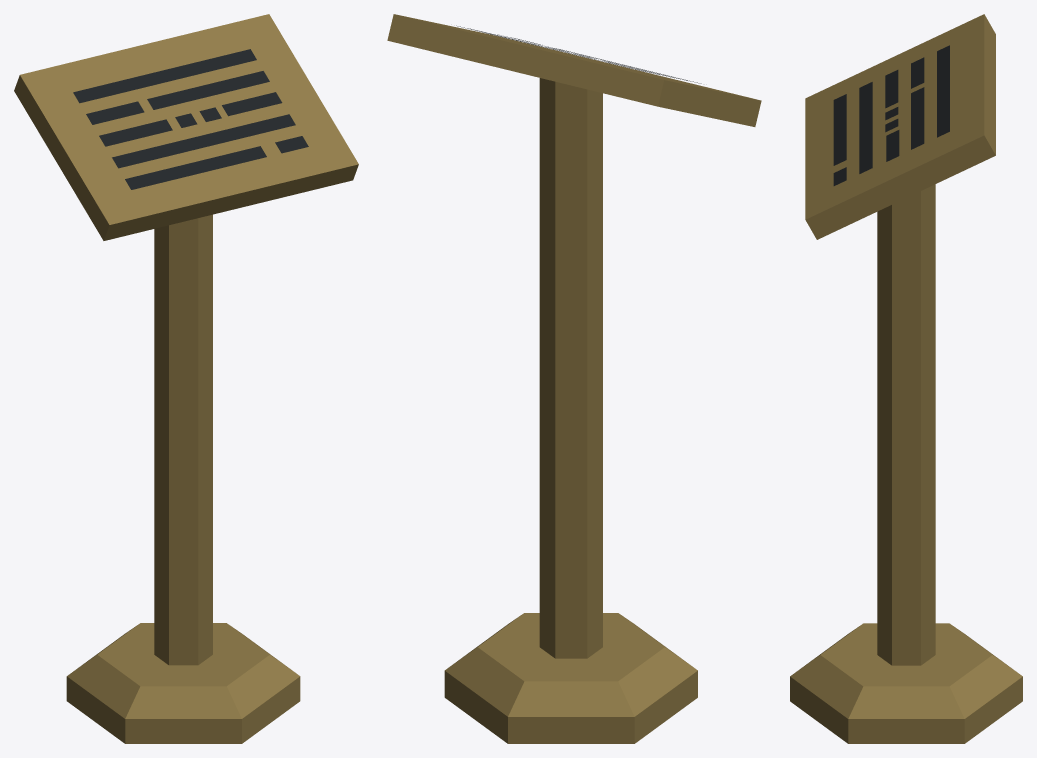
File: InfoStand_Fixed.fbx
The picture shows the model from 3 angles, left to right: view 1: azimuth 30°, elevation 25°; view 2: azimuth 150°, elevation 25°; view 3: azimuth 270°, elevation 25°; orthographic projection. The views are drawn at different scales.
Visible parts, largest first — view 1: InfoStand_Fixed; view 2: InfoStand_Fixed; view 3: InfoStand_Fixed.
Boxes of the visible parts, left/top/right/bottom form: InfoStand_Fixed: left=14, top=14, right=358, bottom=743; InfoStand_Fixed: left=387, top=14, right=761, bottom=743; InfoStand_Fixed: left=790, top=14, right=1022, bottom=743.
Bounding box in the file's own units: 48.18 × 116 × 39.07.
